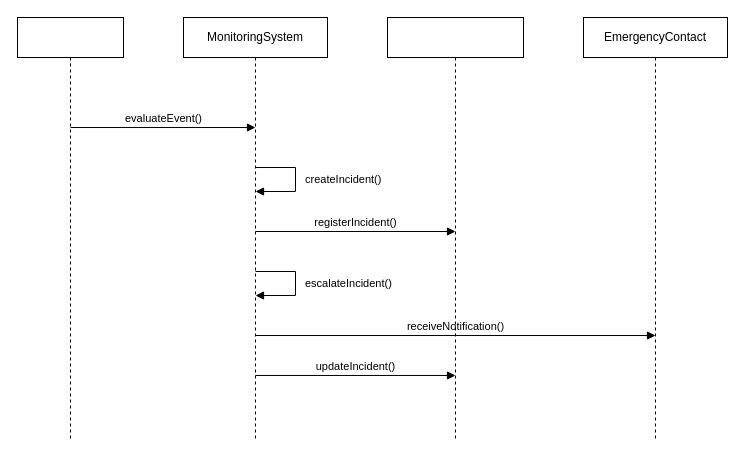
Image size: 745x457. Some labels were removed from this diagram. Each missing label, with the box of its shape:
IncidentHistory: (386, 16, 524, 440)
SmokeSensor: (16, 16, 124, 440)
